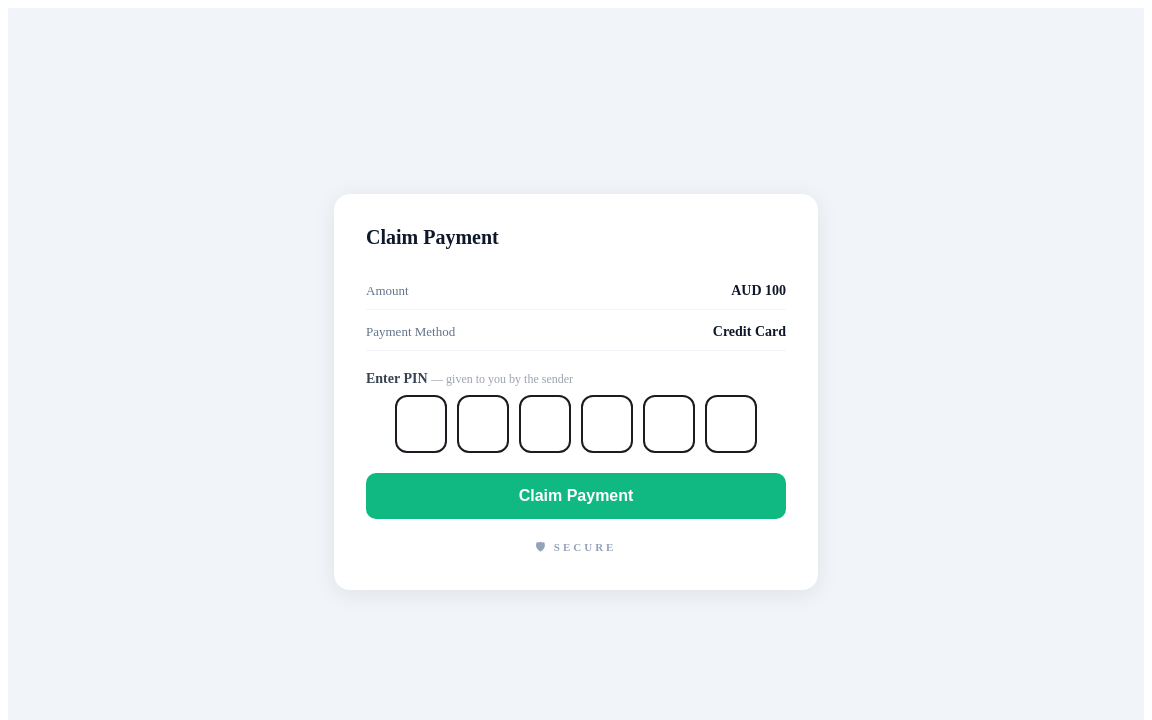
Test: ClaimPaymentLink › shows success message after successful claim
Type "4" into the 1st field at (421, 424), box [395,395,447,453]
Type "8" into the 2nd field at (483, 424), box [457,395,509,453]
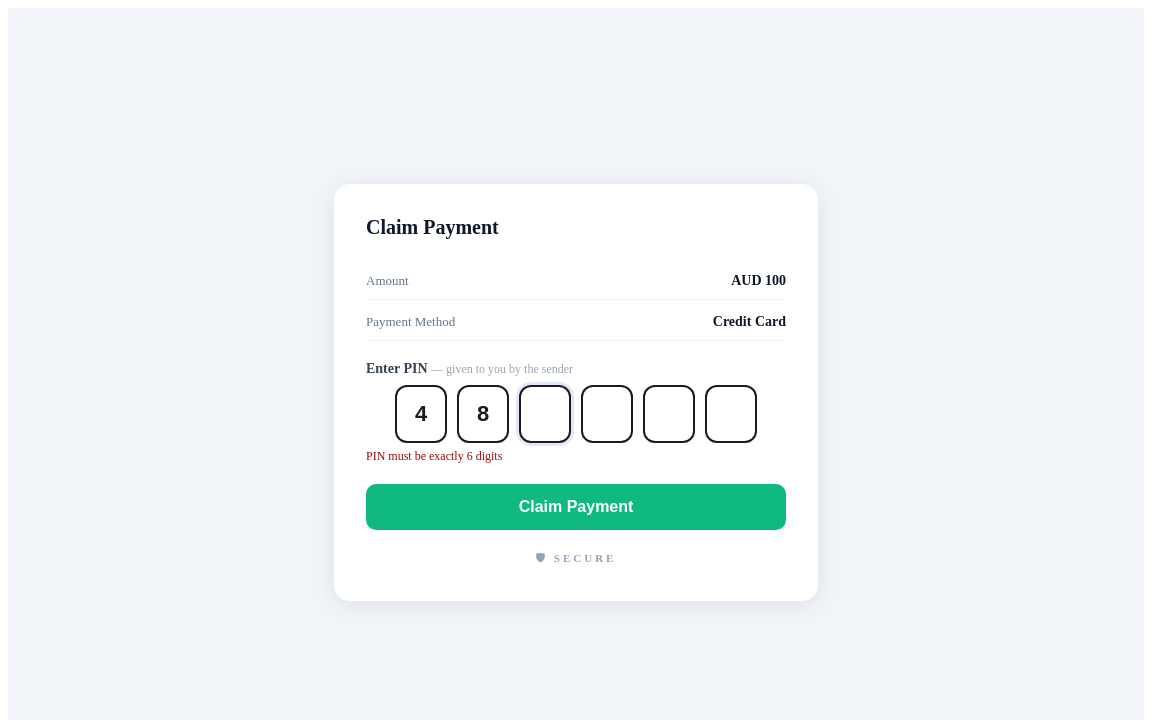
Type "2" into the 3rd field at (545, 414), box [519,384,571,442]
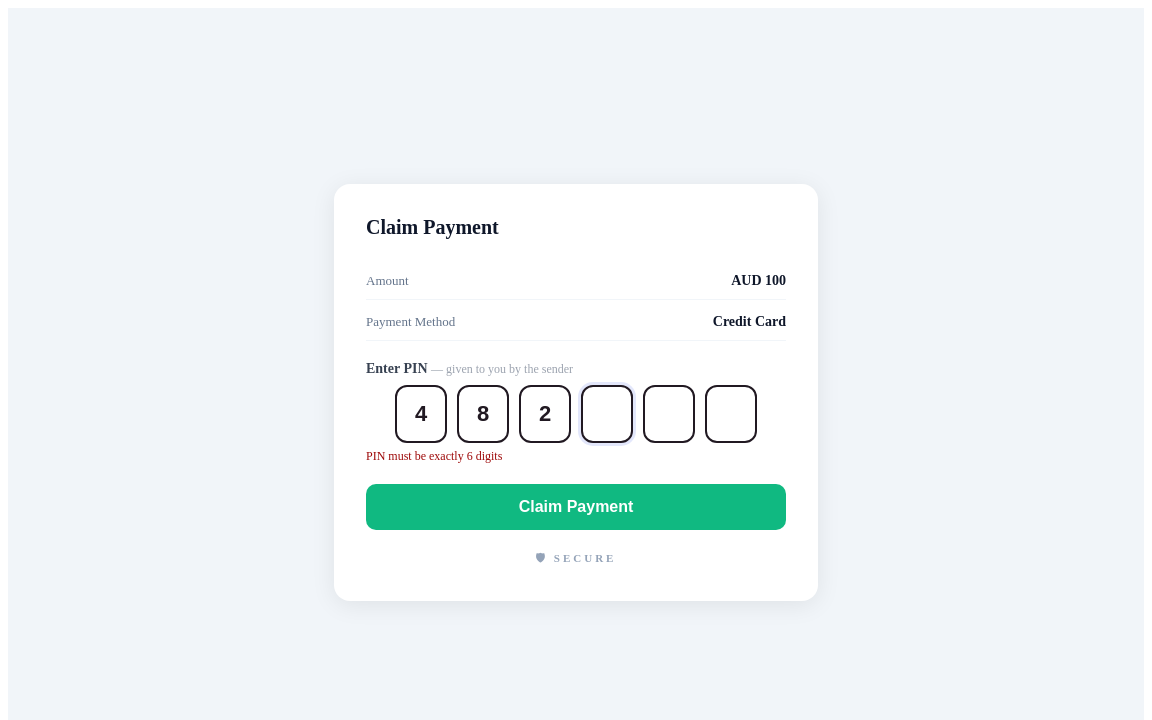
Type "9" into the 4th field at (607, 414), box [581,384,633,442]
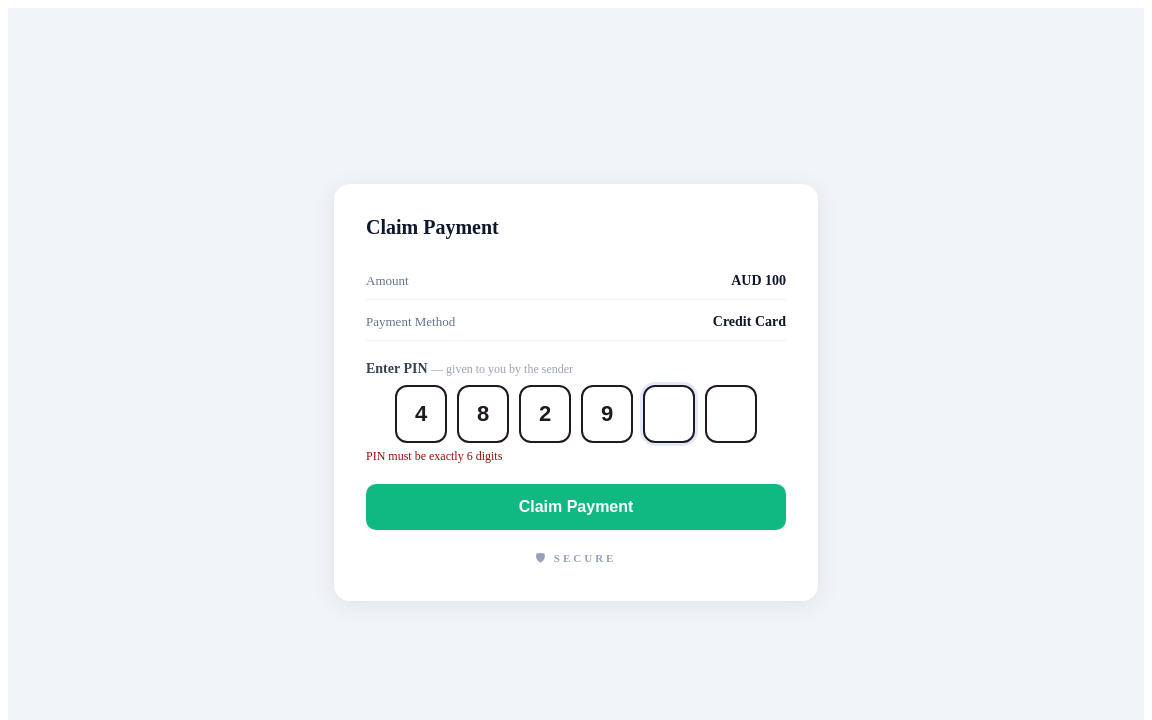
Type "1" into the 5th field at (669, 414), box [643,384,695,442]
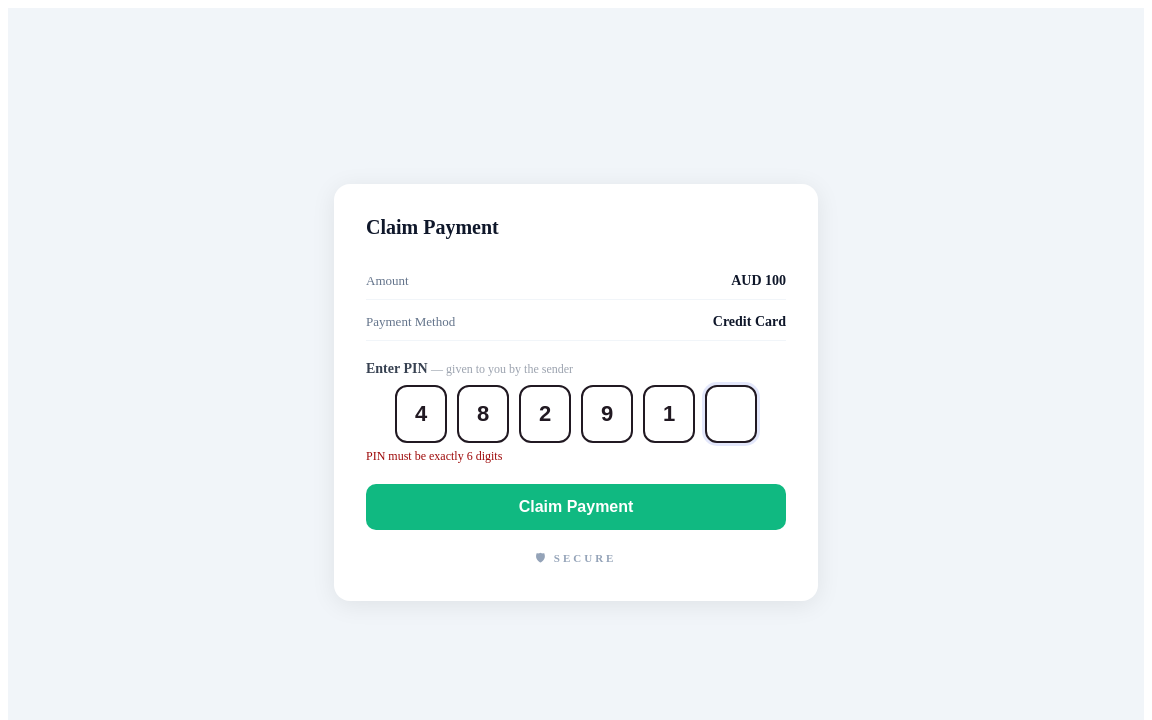
Type "6" into the 6th field at (731, 414), box [705,384,757,442]
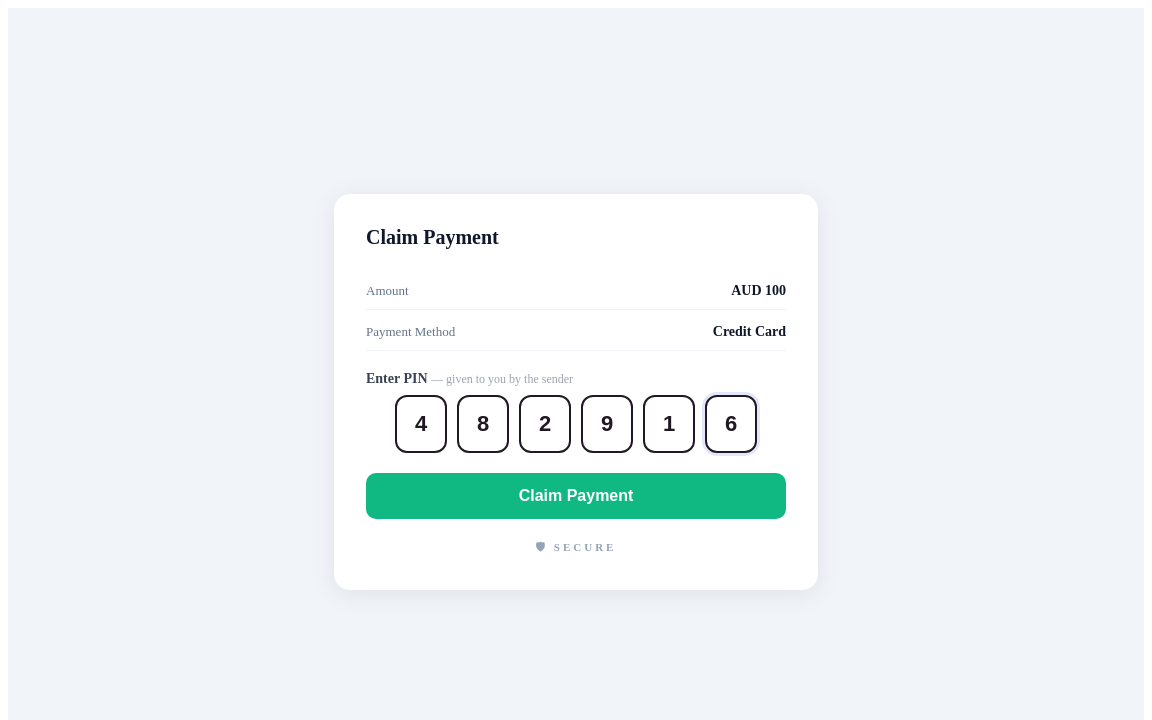
Click the button "Claim Payment" at (576, 496), box [366,473,786,519]
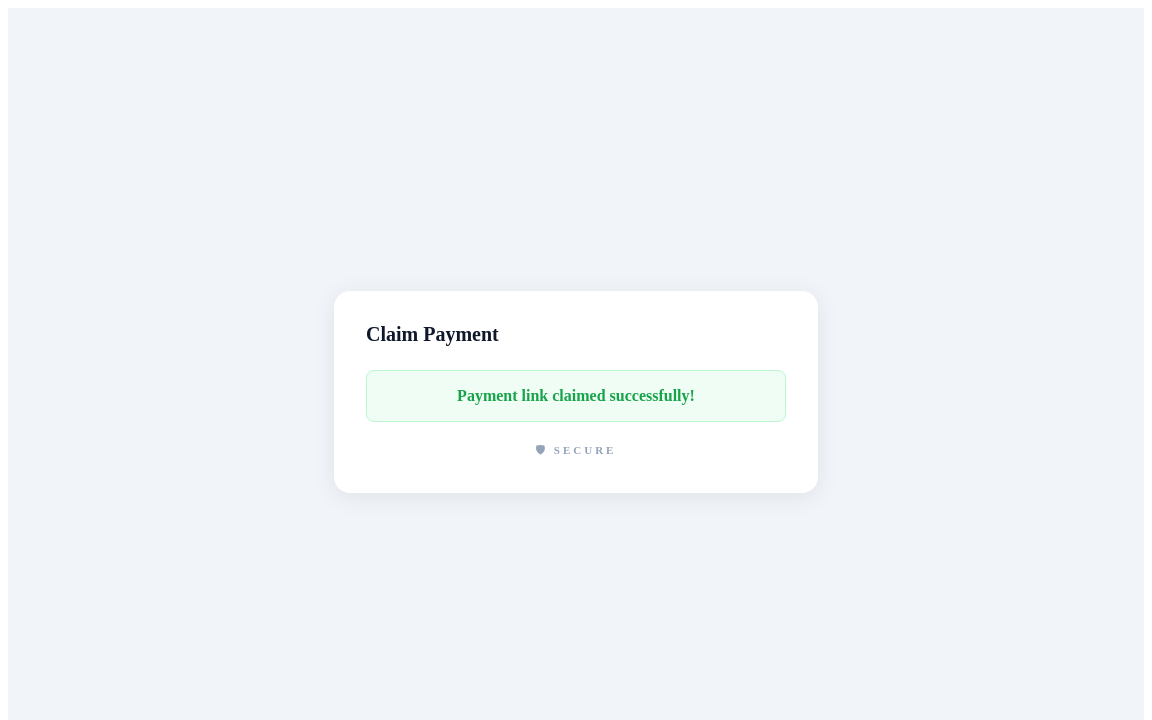
Check: the text "claimed" is shown, box [457,387,695,404]
